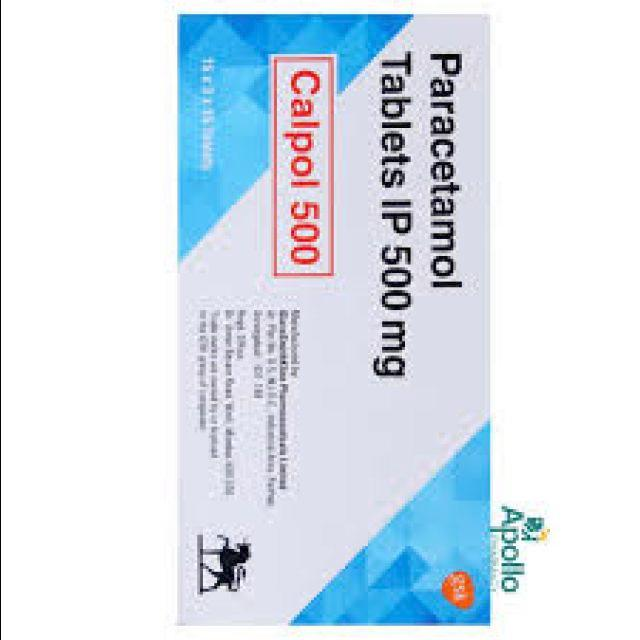authentic: (163, 0, 555, 640)
